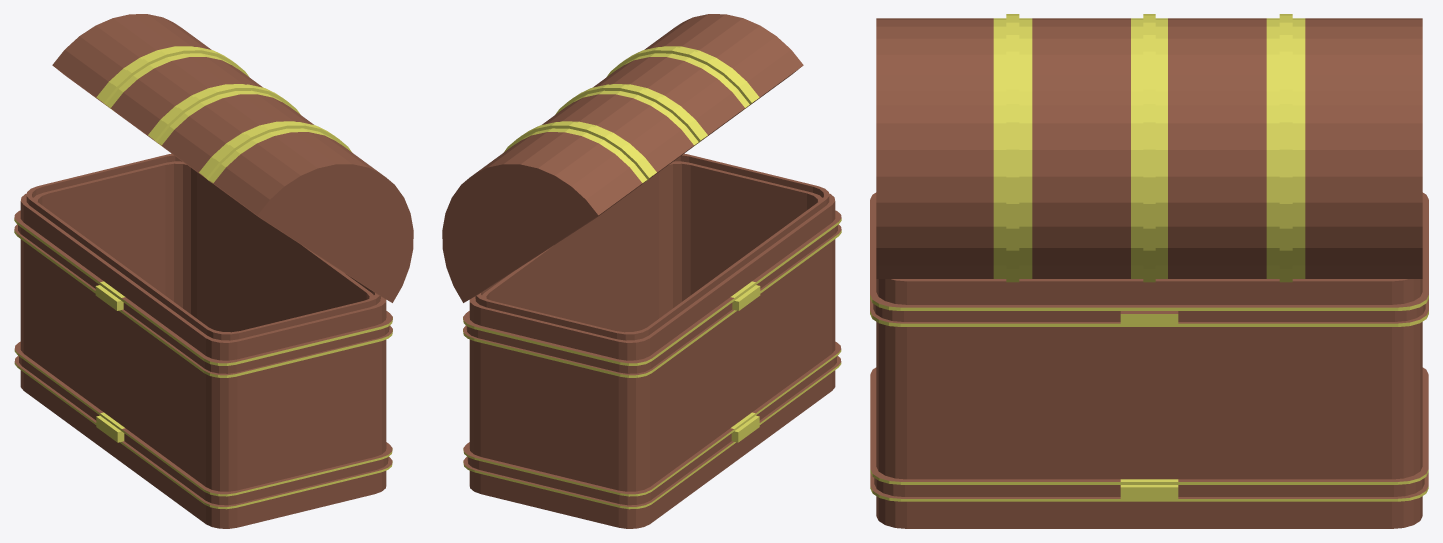
Rendered from chest_ornate.glb.
The picture shows the model from 3 angles, left to right: view 1: azimuth 30°, elevation 25°; view 2: azimuth 150°, elevation 25°; view 3: azimuth 270°, elevation 25°; orthographic projection. The views are drawn at different scales.
Parts seen in each view (by area): view 1: Cube, Cylinder_Cylinder.002; view 2: Cube, Cylinder_Cylinder.002; view 3: Cylinder_Cylinder.002, Cube.
Boxes of the visible parts, x1,y1,x2,y2 form: Cube: (14, 153, 392, 528); Cylinder_Cylinder.002: (52, 14, 413, 302); Cube: (463, 153, 841, 528); Cylinder_Cylinder.002: (442, 14, 803, 302); Cylinder_Cylinder.002: (876, 14, 1422, 282); Cube: (870, 192, 1428, 528).
Size of the model in its own units: 2.33 by 3.68 by 4.09.
